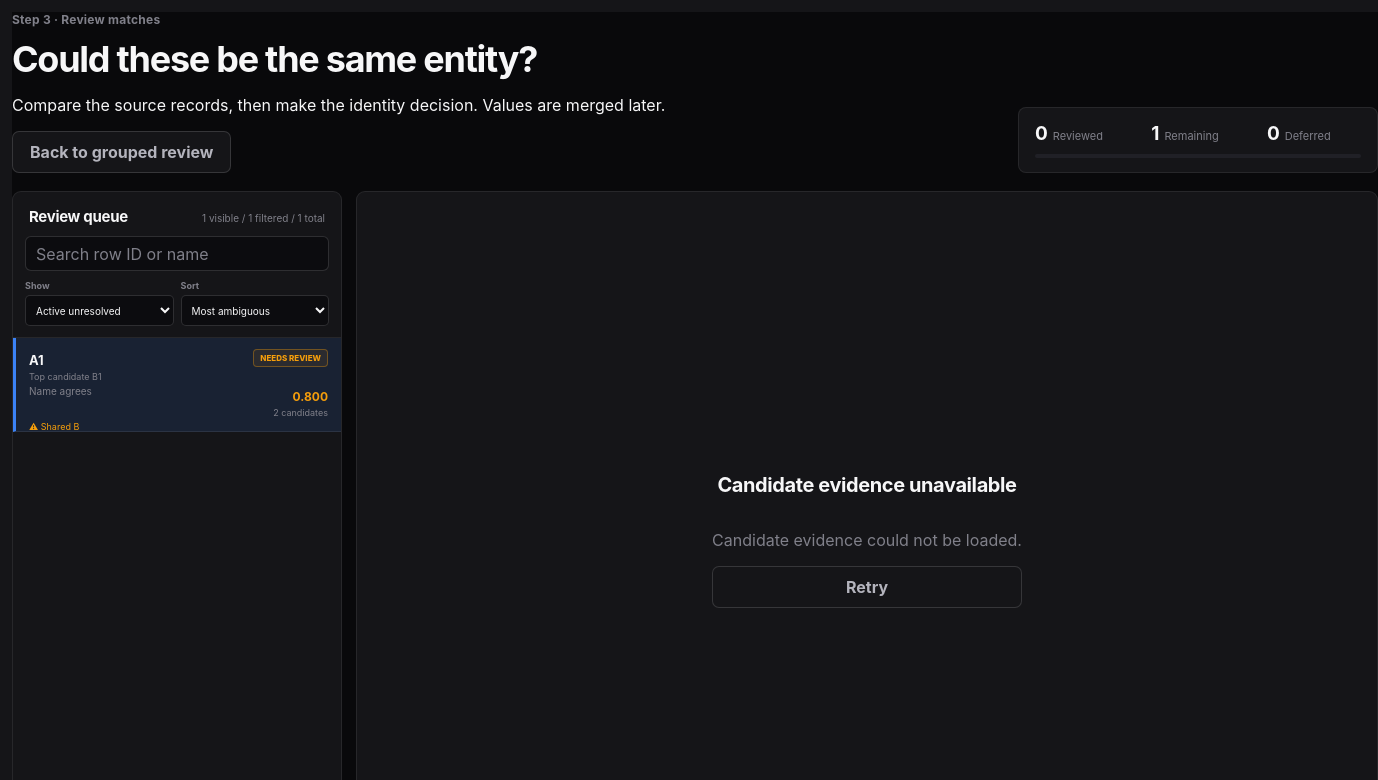
Scenario: bounded review workspace › shows detail failure and retries on demand
Expected: the heading "Candidate evidence unavailable" is shown, [712,473,1022,497]
Click the button "Retry" at (867, 587), box [712,566,1022,608]
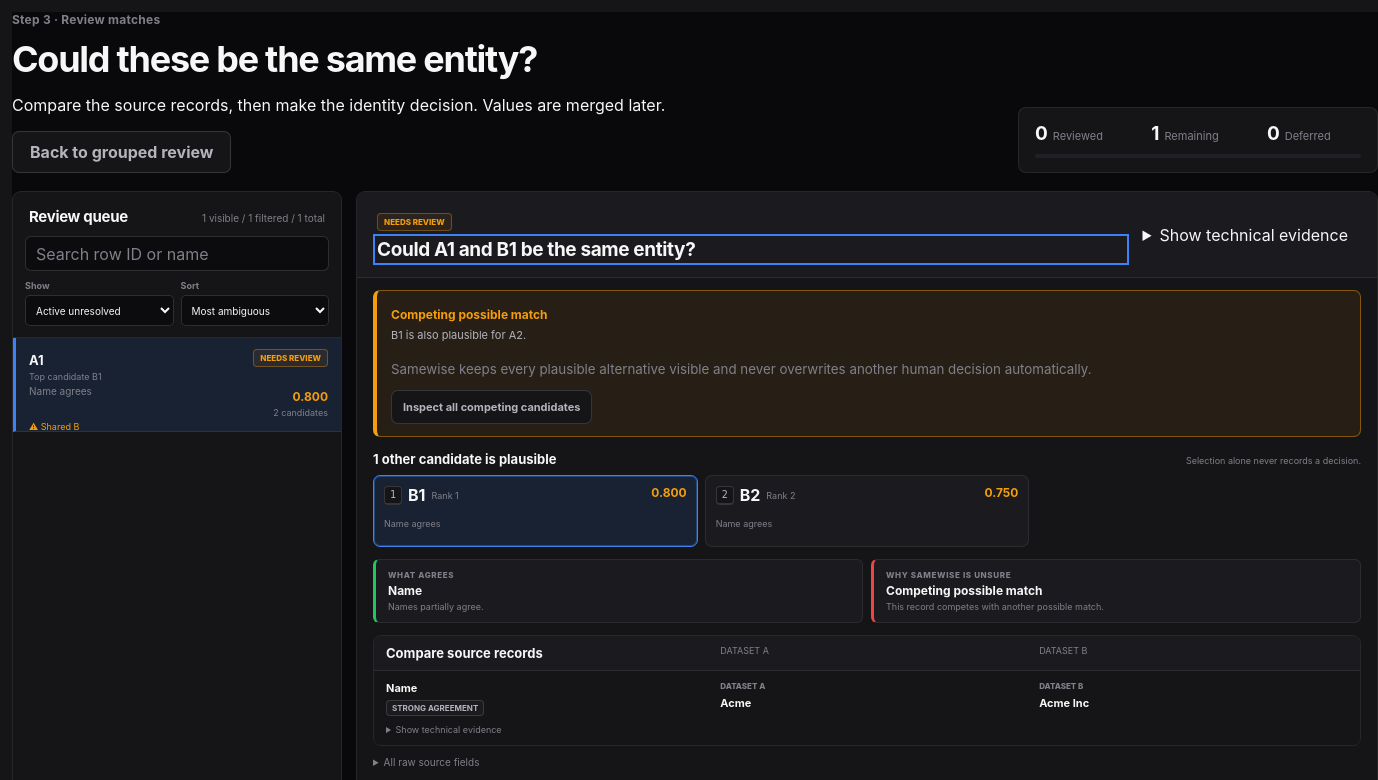
Now the heading "Could A1 and B1 be the same entity?" is shown, box [377,238,695,261]
